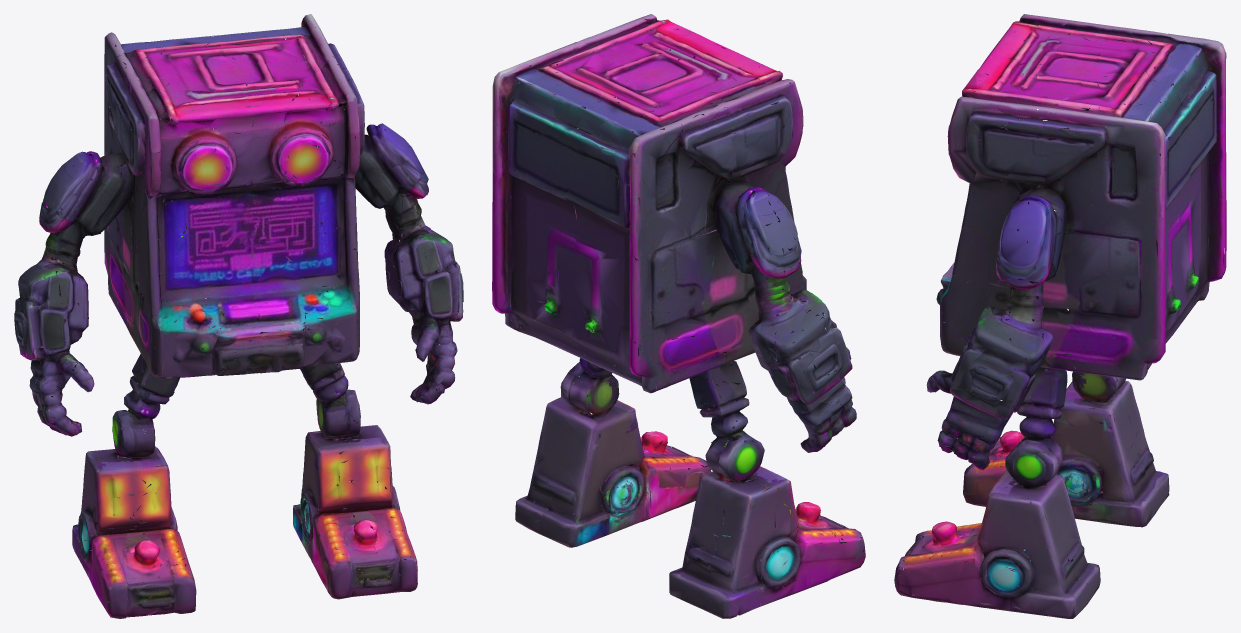
Rendered from boss.glb.
The picture shows the model from 3 angles, left to right: view 1: azimuth 30°, elevation 25°; view 2: azimuth 150°, elevation 25°; view 3: azimuth 270°, elevation 25°; orthographic projection.
Parts seen in each view (by area): view 1: Object_4, Object_5, Object_6; view 2: Object_5, Object_4, Object_6; view 3: Object_4, Object_5, Object_6.
Part boxes in pixels (x1,y1,x2,y2): Object_4: (14,26,463,618); Object_5: (15,14,462,613); Object_6: (15,27,463,616); Object_5: (492,17,856,618); Object_4: (493,14,865,618); Object_6: (492,24,863,617); Object_4: (894,21,1226,618); Object_5: (898,14,1226,614); Object_6: (898,15,1226,604).
Size of the model in its own units: 1.68 by 2 by 1.24.
Materials: 1 (1 with a texture image).
